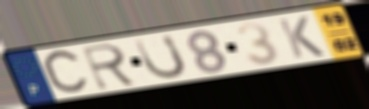3: (236, 20, 280, 68)
8: (186, 29, 229, 75)
C: (39, 47, 92, 98)
K: (275, 14, 328, 60)
R: (79, 41, 141, 92)
U: (132, 32, 189, 81)
